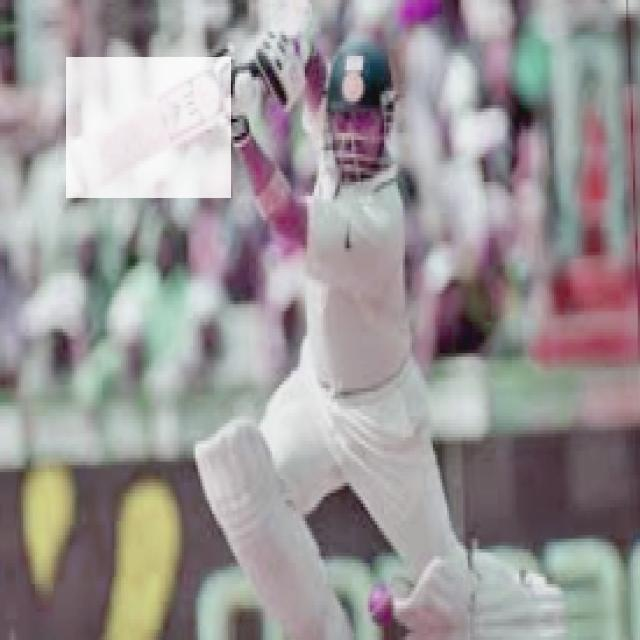bat: (67, 58, 231, 201)
toe: (66, 153, 87, 196)
